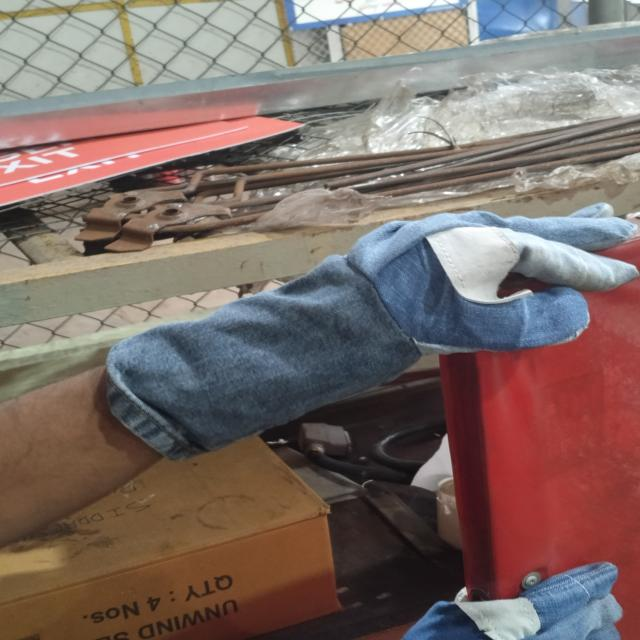Gloves-Detection: (102, 205, 630, 451), (414, 569, 640, 640)
